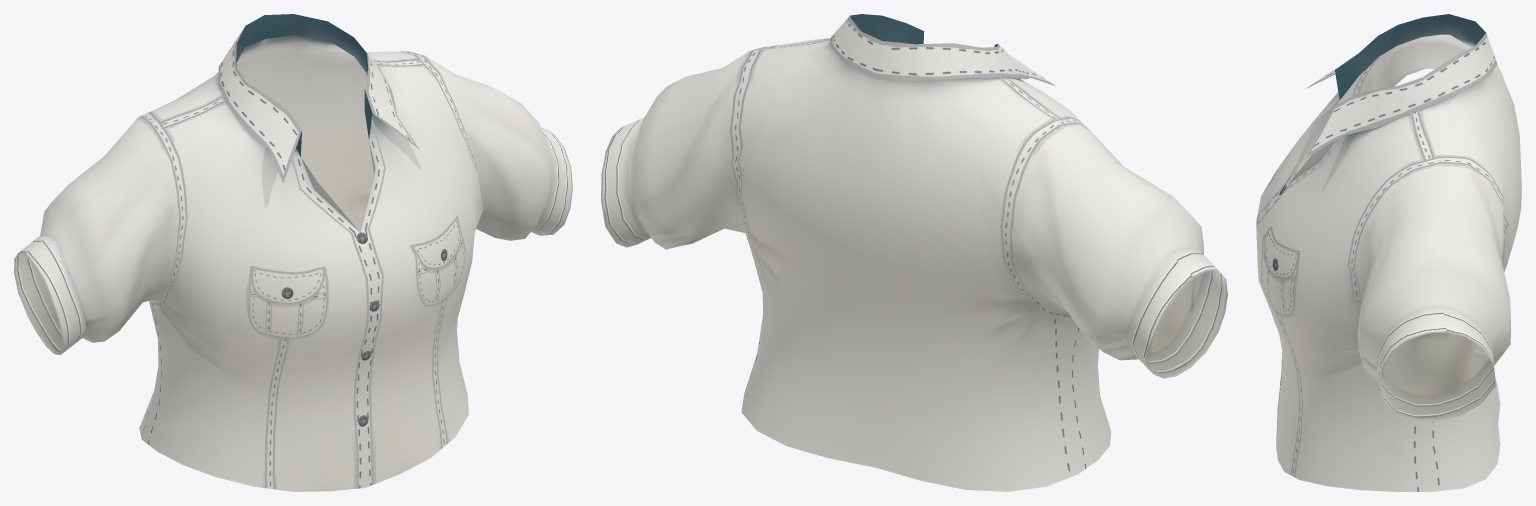
The model's file is chemise.glb.
The picture shows the model from 3 angles, left to right: view 1: azimuth 30°, elevation 25°; view 2: azimuth 150°, elevation 25°; view 3: azimuth 270°, elevation 25°; orthographic projection. The views are drawn at different scales.
Parts seen in each view (by area): view 1: chemise; view 2: chemise; view 3: chemise.
Part boxes in pixels (x1=…): chemise: x1=14, y1=14, x2=572, y2=491; chemise: x1=601, y1=14, x2=1227, y2=491; chemise: x1=1256, y1=14, x2=1521, y2=491.
Bounding box in the file's own units: 0.6383 × 0.4643 × 0.2696.
Materials: 1 (1 with a texture image).
